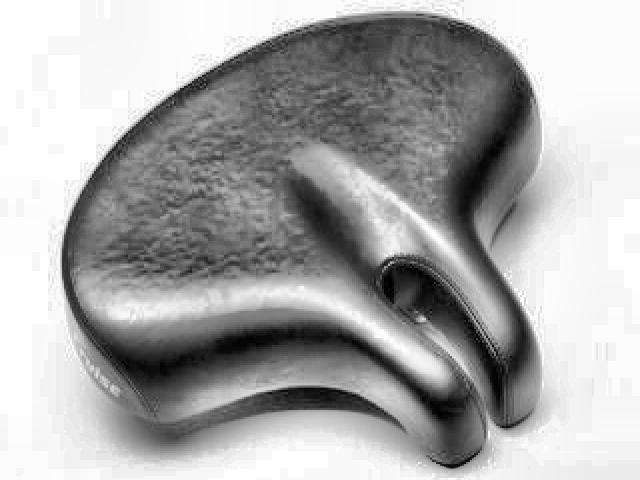saddle: (56, 10, 546, 471)
